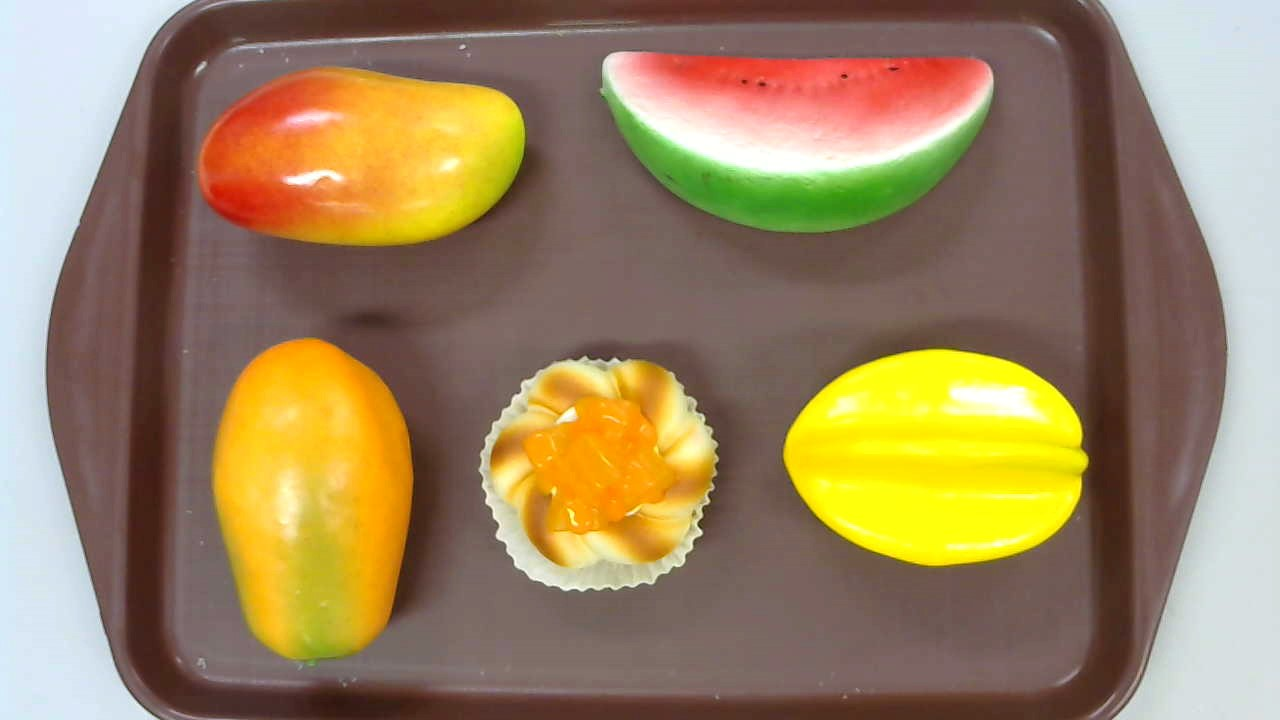mango tart: (478, 355, 721, 593)
papya: (210, 338, 413, 662)
red mango: (196, 66, 526, 245)
star fruit: (782, 347, 1088, 565)
water melon: (598, 50, 993, 234)
